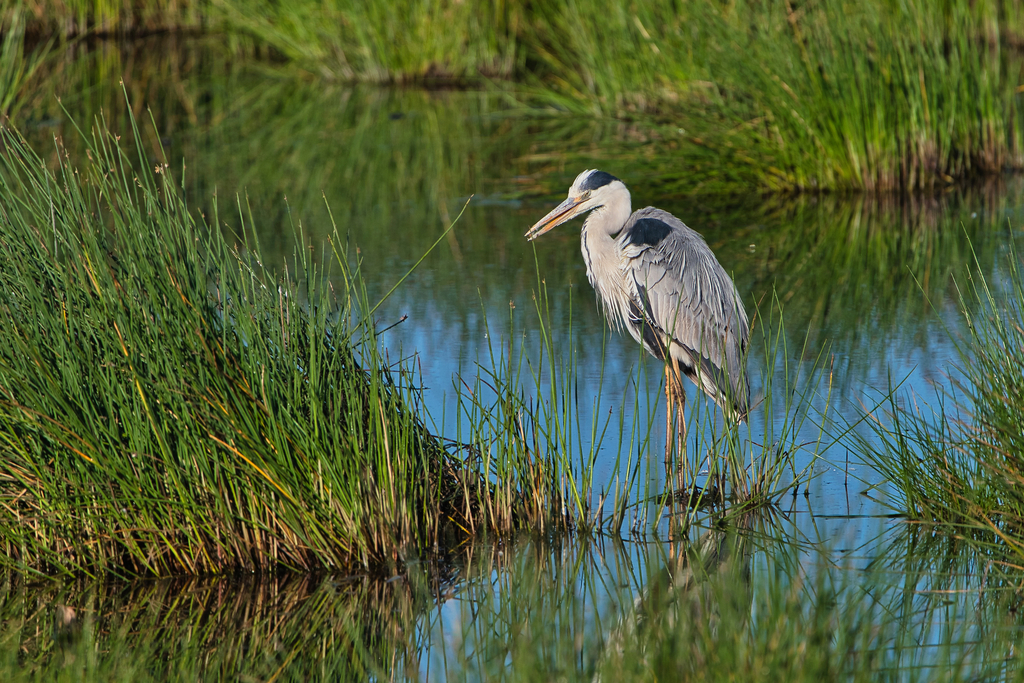heron: (522, 166, 754, 513)
